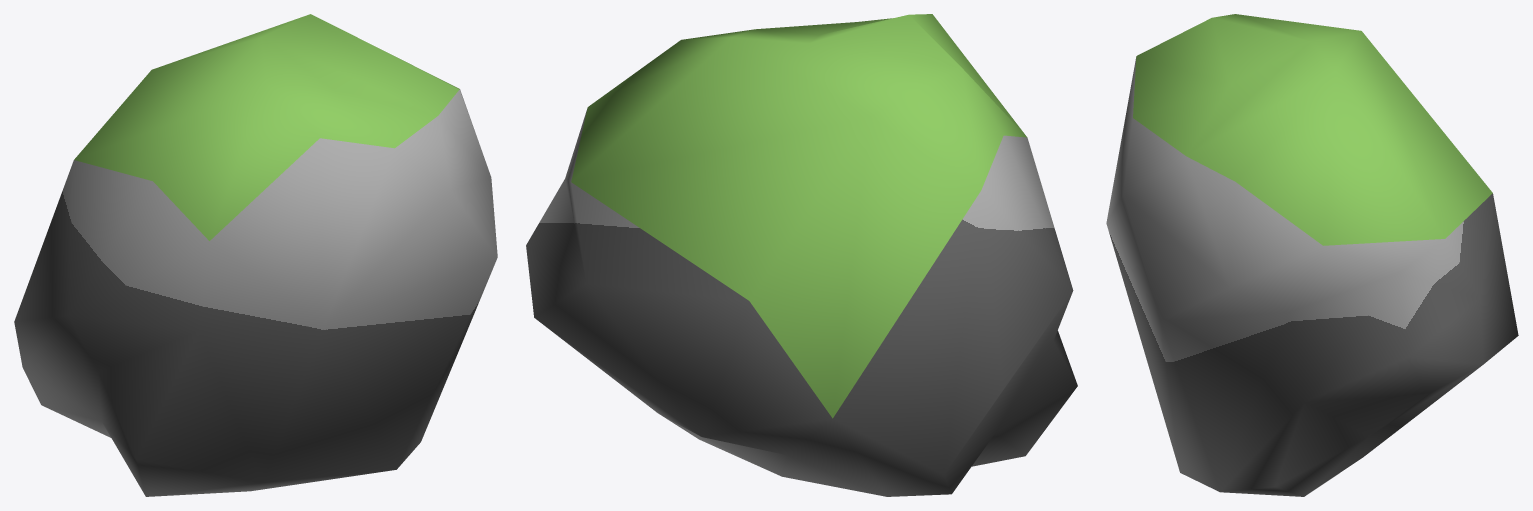
Rendered from rock.glb.
3 views of the same model, side by side, from view 1: azimuth 30°, elevation 25°; view 2: azimuth 150°, elevation 25°; view 3: azimuth 270°, elevation 25° (orthographic). The views are drawn at different scales.
Parts seen in each view (by area): view 1: Stone.008; view 2: Stone.008; view 3: Stone.008.
Boxes of the visible parts, bbox=[...] form: Stone.008: bbox=[14, 14, 497, 496]; Stone.008: bbox=[526, 14, 1077, 496]; Stone.008: bbox=[1106, 14, 1518, 496].
Bounding box in the file's own units: 0.4629 × 0.4175 × 0.3757.
Materials: 1 (1 with a texture image).
